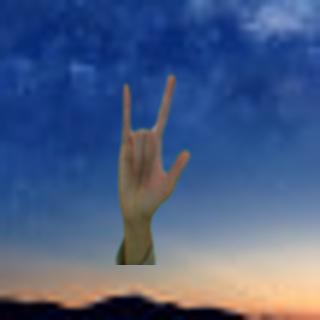ILY: (113, 69, 194, 228)
